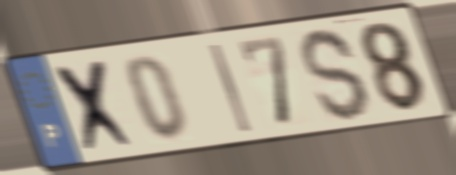0: (122, 52, 193, 146)
7: (234, 32, 296, 131)
8: (358, 18, 429, 115)
I: (206, 41, 256, 137)
S: (297, 24, 374, 124)
X: (49, 55, 142, 157)
